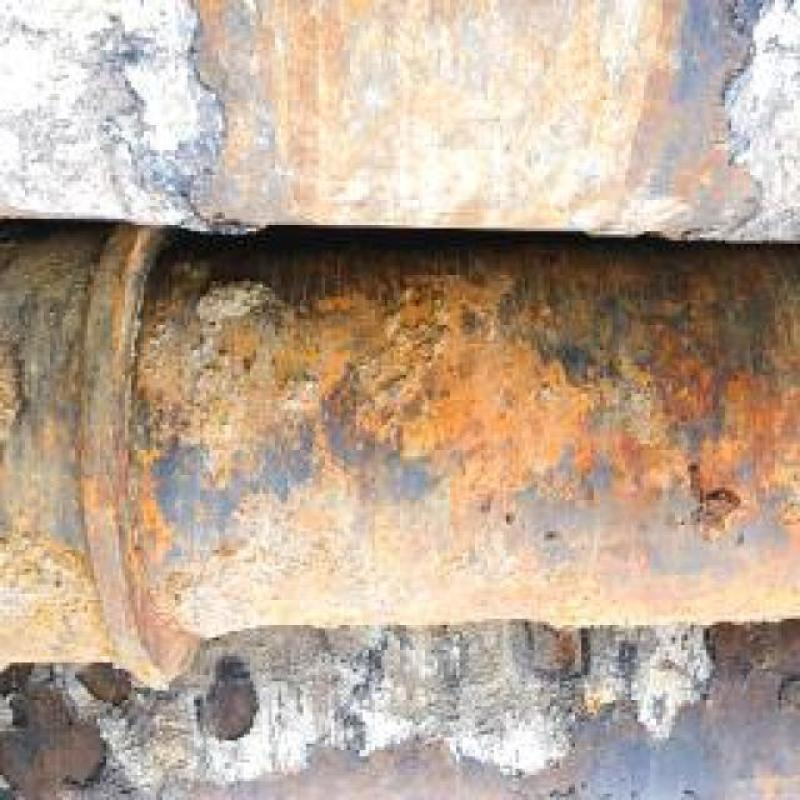corrosion: (22, 227, 800, 616)
